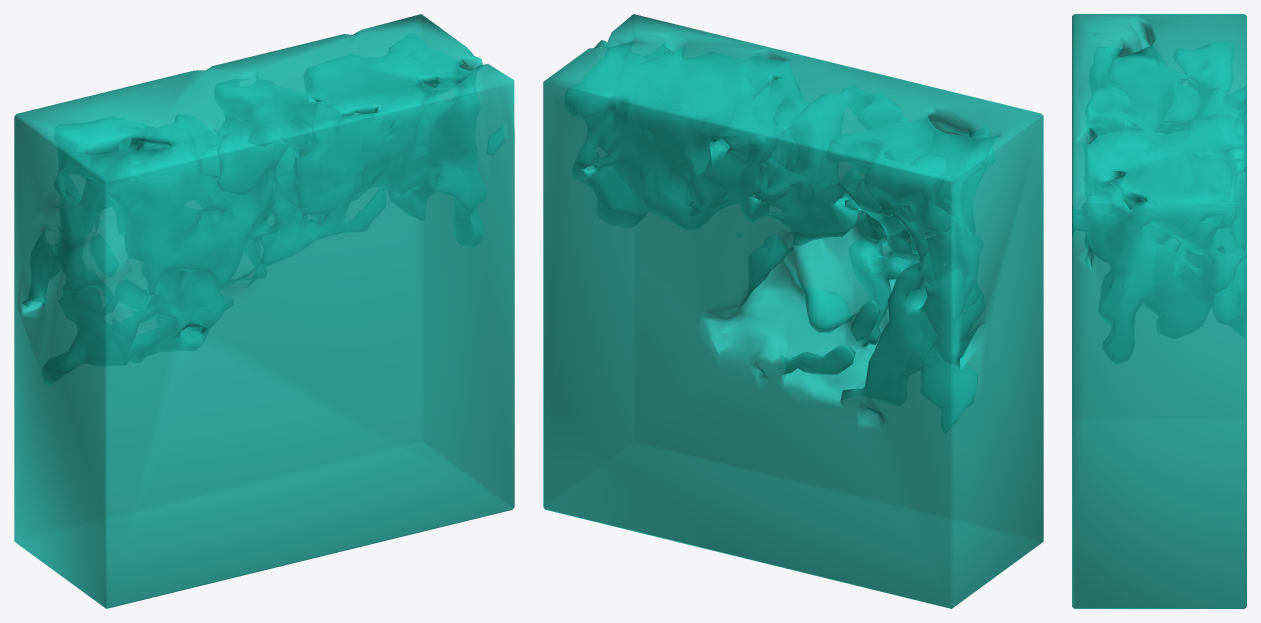
3 views of the same model, side by side, from view 1: azimuth 30°, elevation 25°; view 2: azimuth 150°, elevation 25°; view 3: azimuth 270°, elevation 25° (orthographic). The views are drawn at different scales.
Visible parts, largest first — view 1: Liquid_Domain; view 2: Liquid_Domain; view 3: Liquid_Domain.
Boxes of the visible parts, left/top/right/bottom form: Liquid_Domain: left=14, top=14, right=514, bottom=608; Liquid_Domain: left=543, top=14, right=1043, bottom=608; Liquid_Domain: left=1072, top=14, right=1246, bottom=608.
Bounding box in the file's own units: 884 × 884 × 344.
